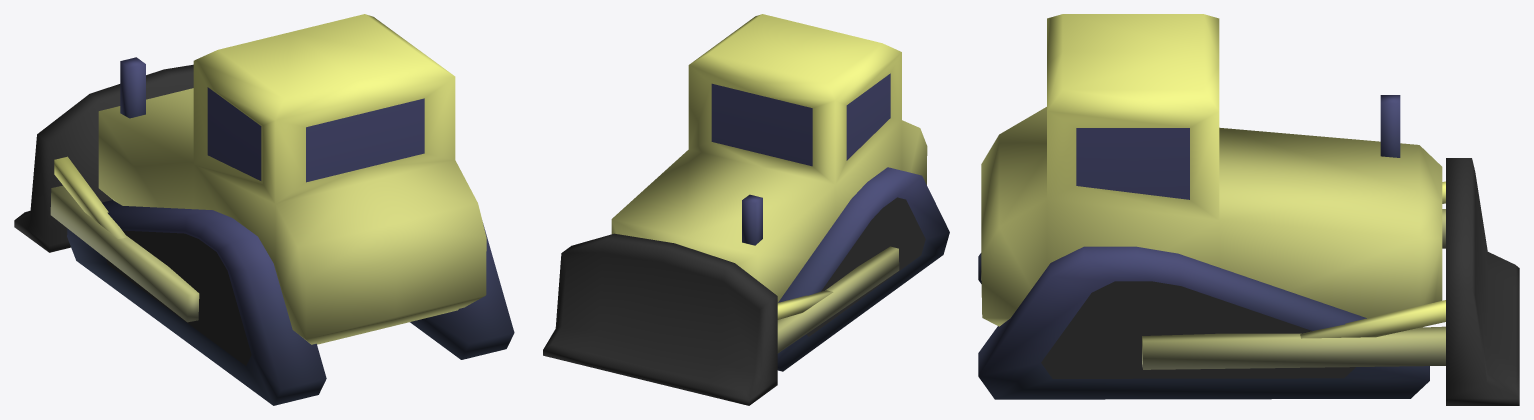
File: ToyBullDozer.fbx
The picture shows the model from 3 angles, left to right: view 1: azimuth 30°, elevation 25°; view 2: azimuth 150°, elevation 25°; view 3: azimuth 270°, elevation 25°; orthographic projection. The views are drawn at different scales.
Parts seen in each view (by area): view 1: BullDozer; view 2: BullDozer; view 3: BullDozer.
Boxes of the visible parts, x1,y1,x2,y2 form: BullDozer: [14, 14, 514, 405]; BullDozer: [543, 14, 949, 405]; BullDozer: [978, 14, 1519, 405].
Size of the model in its own units: 311 by 307 by 521.
